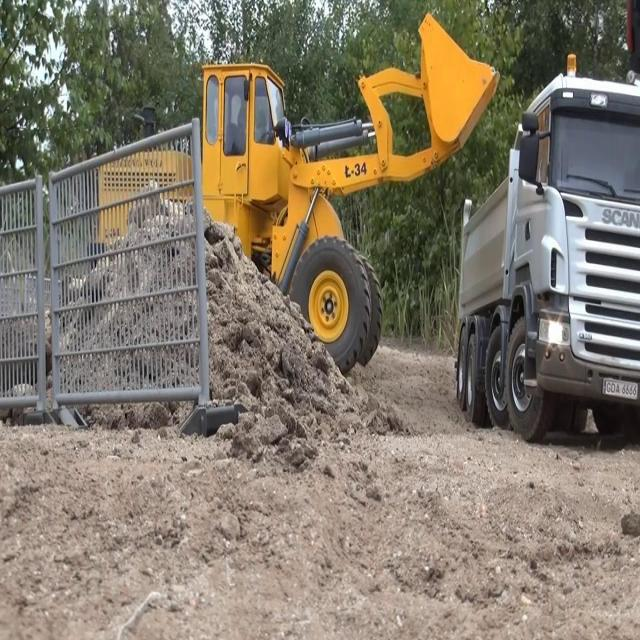buldozerpayloadergrader: (86, 6, 499, 382)
dump_truck: (454, 53, 640, 442)
